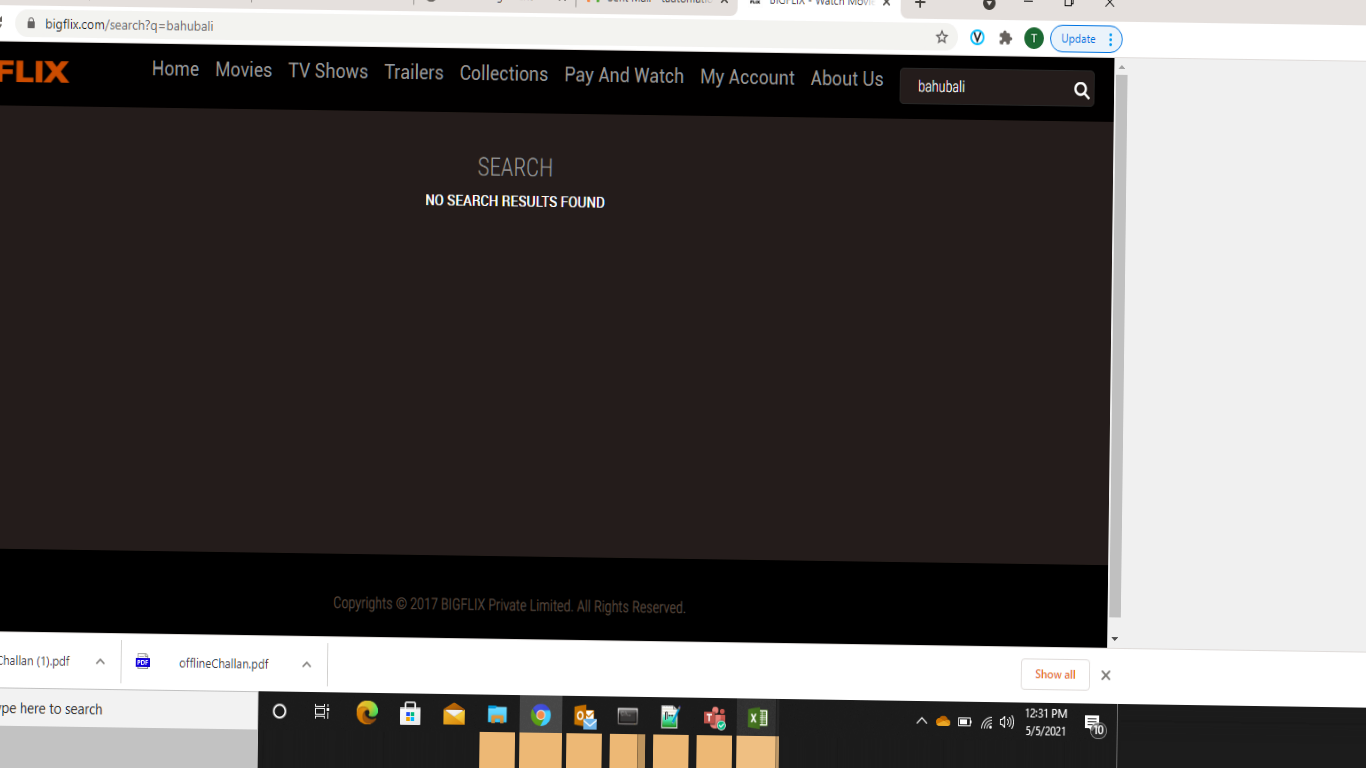myaccountbutton: (692, 55, 812, 104)
noresultsfound: (394, 167, 619, 225)
searchicon: (1066, 72, 1096, 107)
searchtextbox: (886, 56, 1104, 115)
